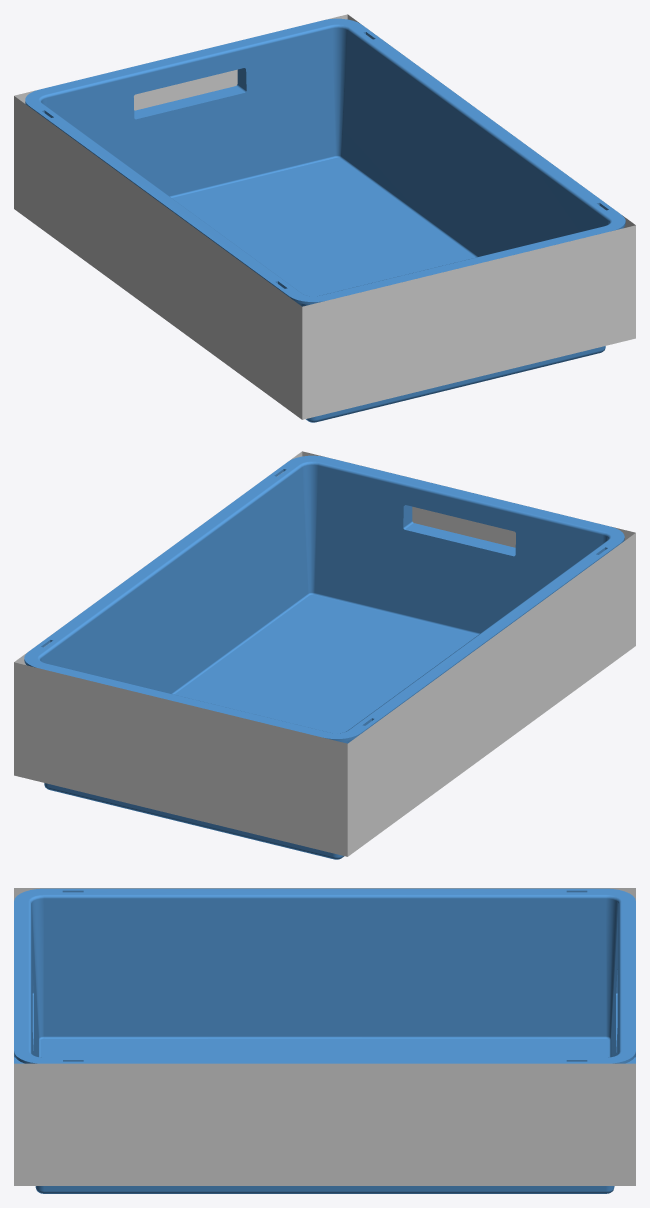
The model's file is klt_6414.fbx.
3 renders of one model, top to bottom at view 1: azimuth 30°, elevation 25°; view 2: azimuth 150°, elevation 25°; view 3: azimuth 270°, elevation 25°, orthographic. The views are drawn at different scales.
Parts seen in each view (by area): view 1: 3D-Objekt, DataLabel.002, DataLabel.001, DataLabel.004; view 2: 3D-Objekt, DataLabel.004, DataLabel.001, DataLabel.002; view 3: 3D-Objekt, DataLabel.003, DataLabel.001.
Part boxes in pixels (left/top/right/bottom): 3D-Objekt: left=25, top=18, right=625, bottom=422; DataLabel.002: left=302, top=225, right=635, bottom=419; DataLabel.001: left=14, top=96, right=302, bottom=419; DataLabel.004: left=14, top=14, right=347, bottom=110; 3D-Objekt: left=24, top=455, right=624, bottom=859; DataLabel.004: left=14, top=662, right=347, bottom=856; DataLabel.001: left=347, top=533, right=635, bottom=856; DataLabel.002: left=302, top=451, right=635, bottom=547; 3D-Objekt: left=14, top=888, right=635, bottom=1193; DataLabel.003: left=14, top=1063, right=635, bottom=1185; DataLabel.001: left=14, top=888, right=635, bottom=900.
Bounding box in the file's own units: 40.13 × 15 × 60.02.
